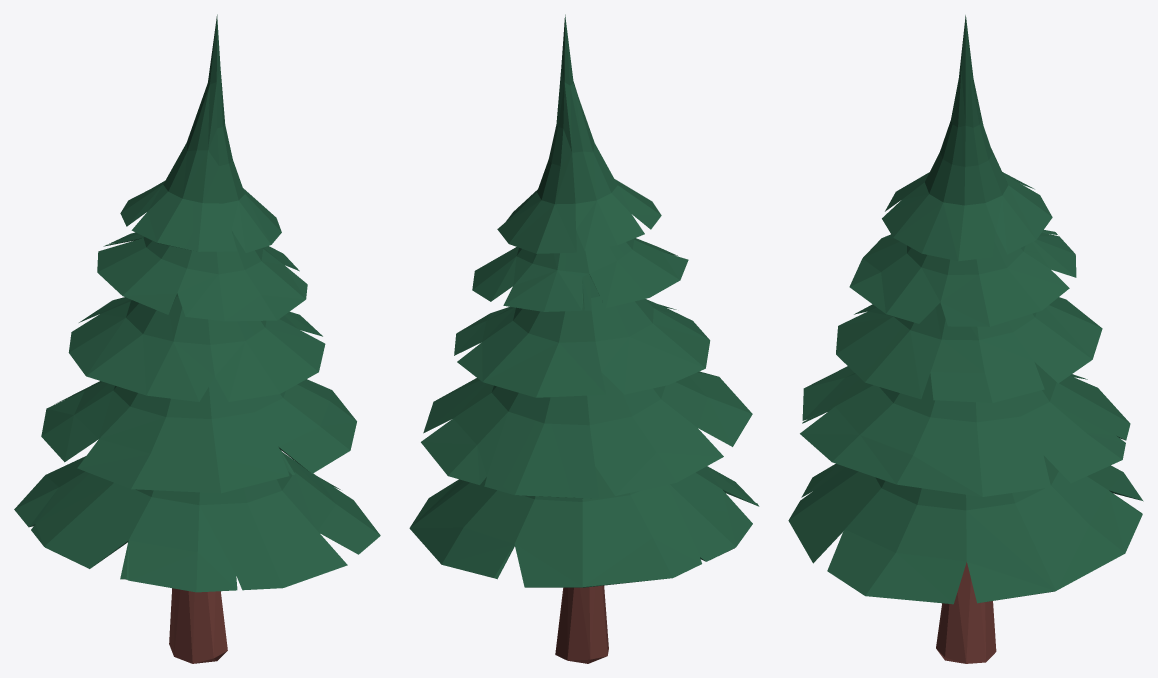
The model's file is Tree01.fbx.
The picture shows the model from 3 angles, left to right: view 1: azimuth 30°, elevation 25°; view 2: azimuth 150°, elevation 25°; view 3: azimuth 270°, elevation 25°; orthographic projection. The views are drawn at different scales.
Parts seen in each view (by area): view 1: Tree_01; view 2: Tree_01; view 3: Tree_01.
Part boxes in pixels (left/top/right/bottom): Tree_01: left=14, top=14, right=380, bottom=663; Tree_01: left=409, top=14, right=759, bottom=663; Tree_01: left=788, top=15, right=1143, bottom=663.
Bounding box in the file's own units: 226 × 453 × 224.
